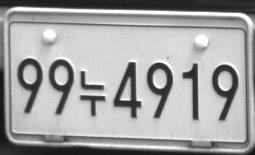1: (179, 63, 206, 120)
4: (112, 61, 142, 119)
9: (211, 63, 239, 121), (16, 57, 43, 113), (48, 58, 75, 114), (146, 62, 173, 118)
누: (79, 71, 105, 116)
